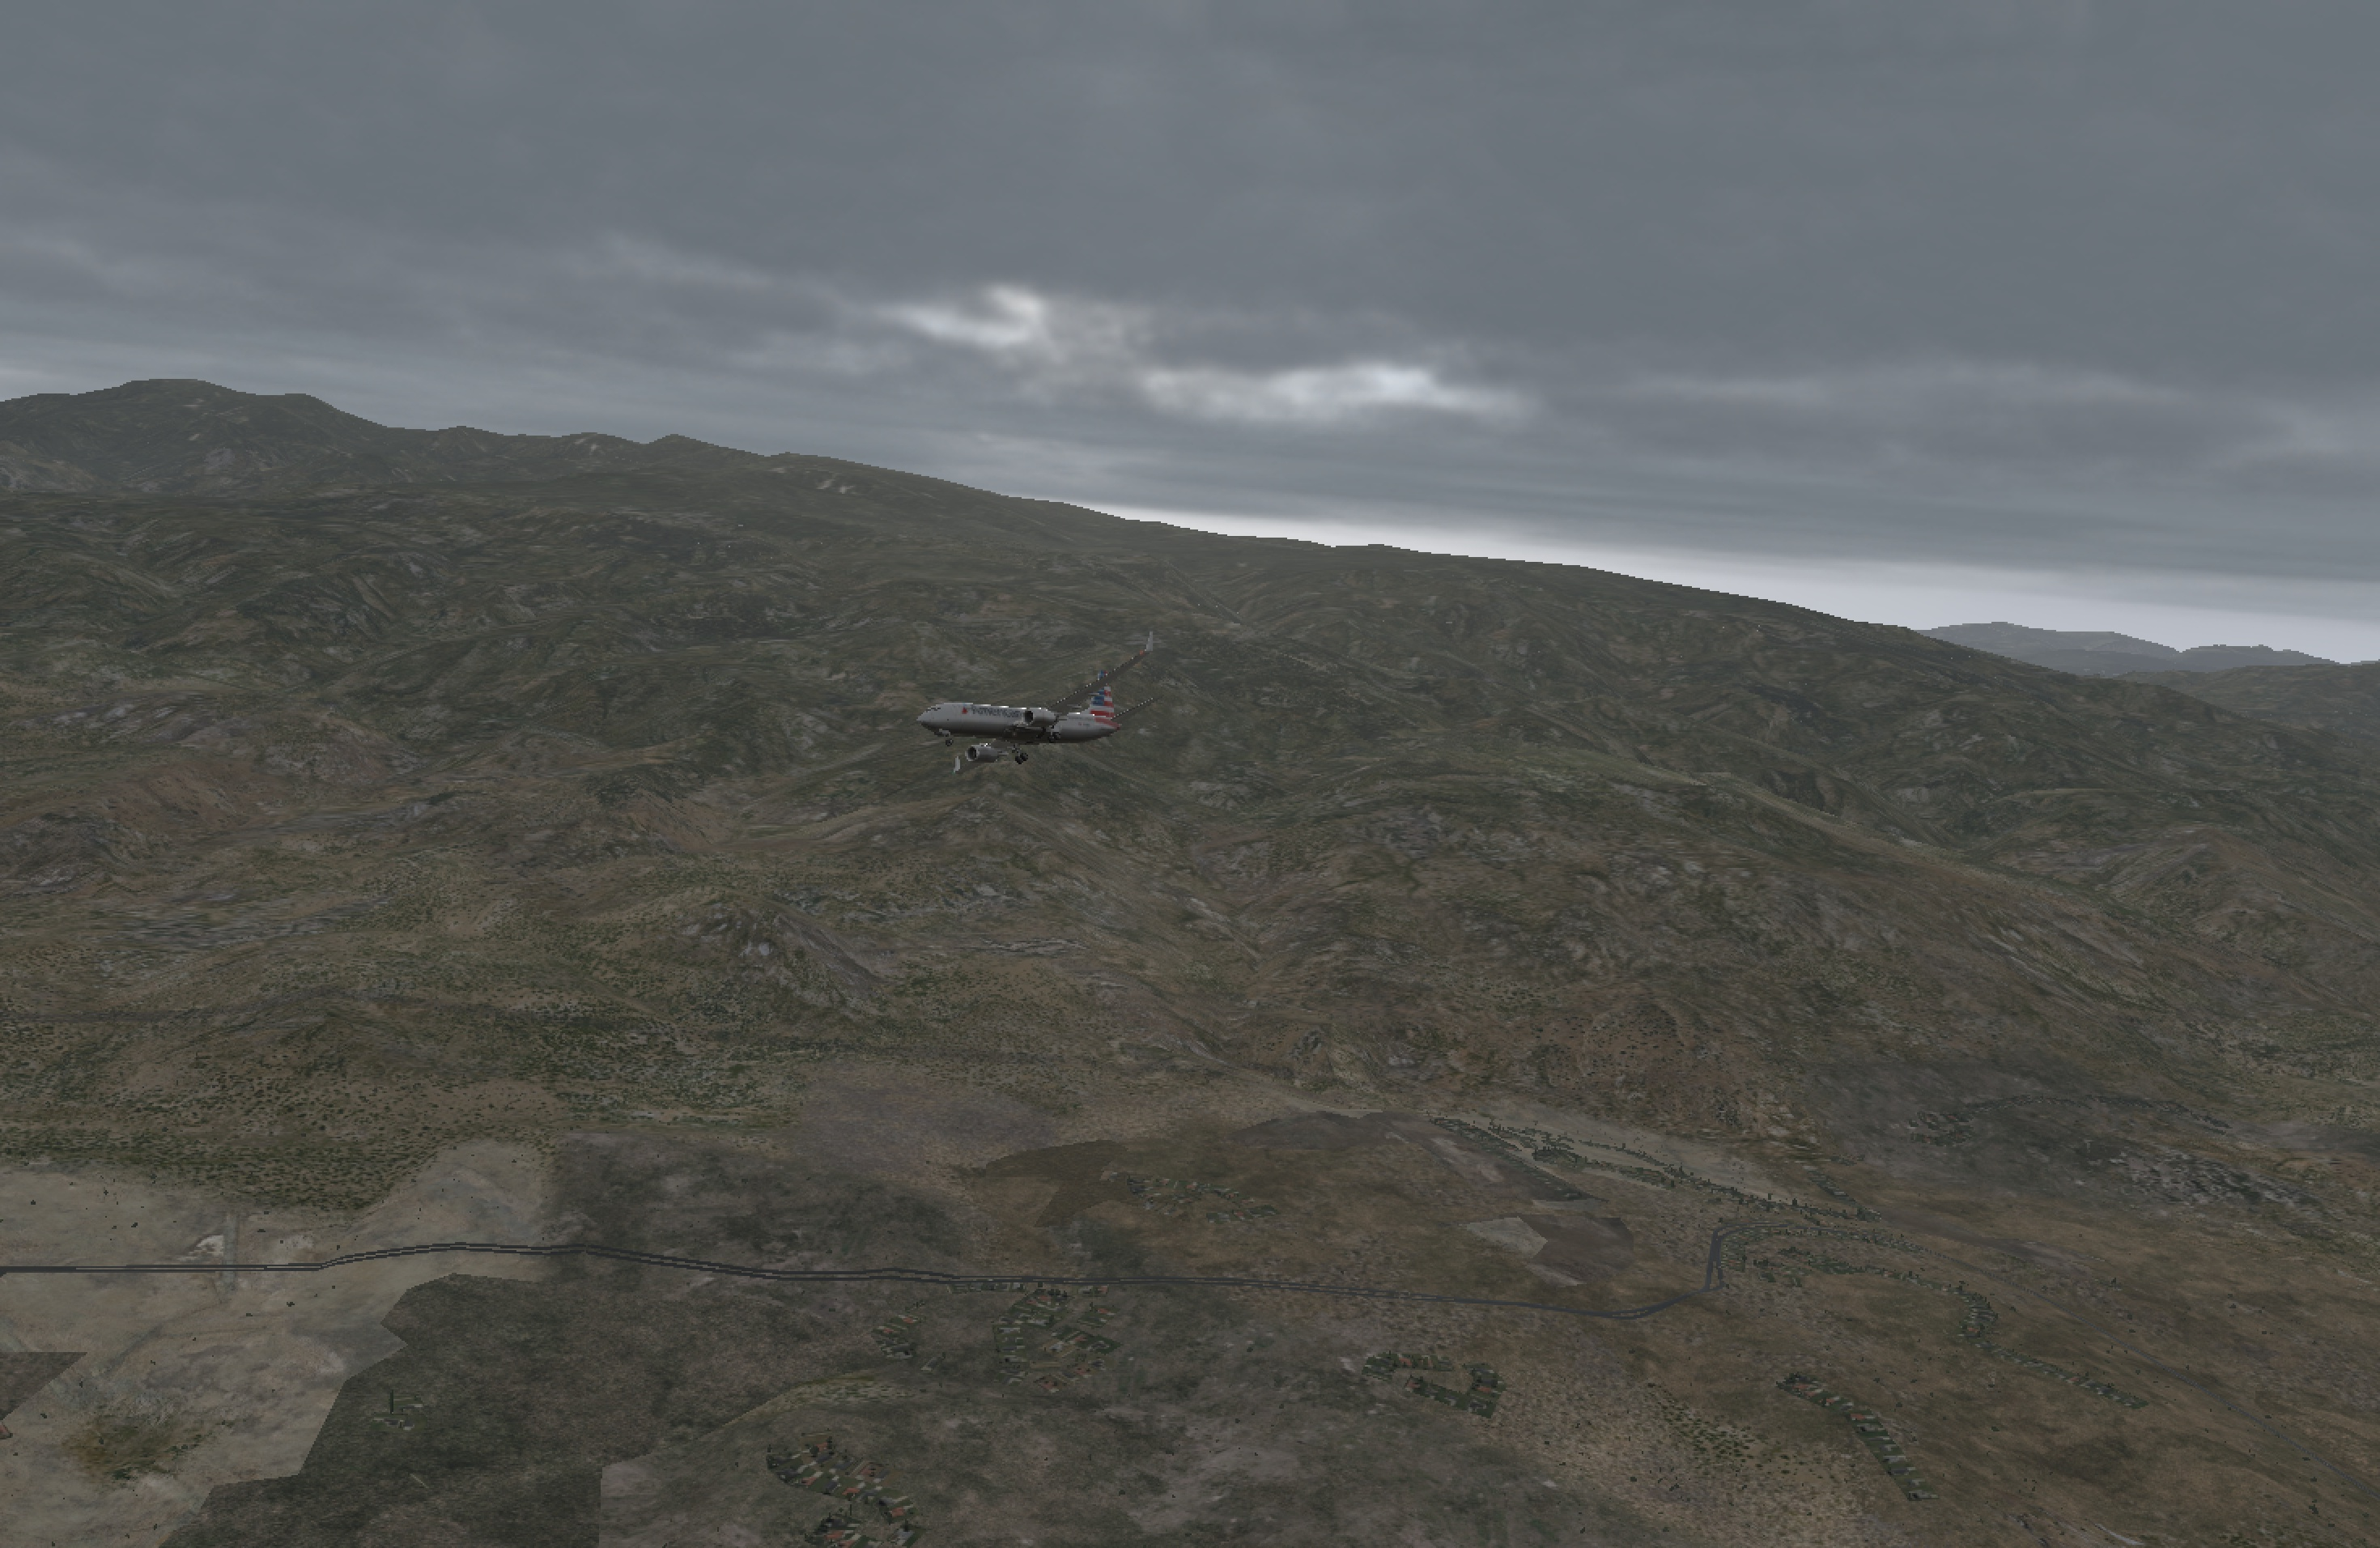aircraft: (862, 668, 1187, 790)
